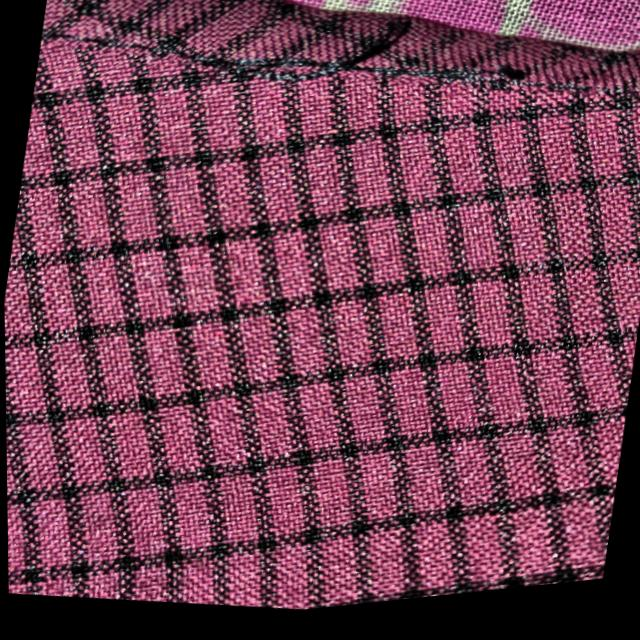Stitch: (134, 1, 531, 163)
